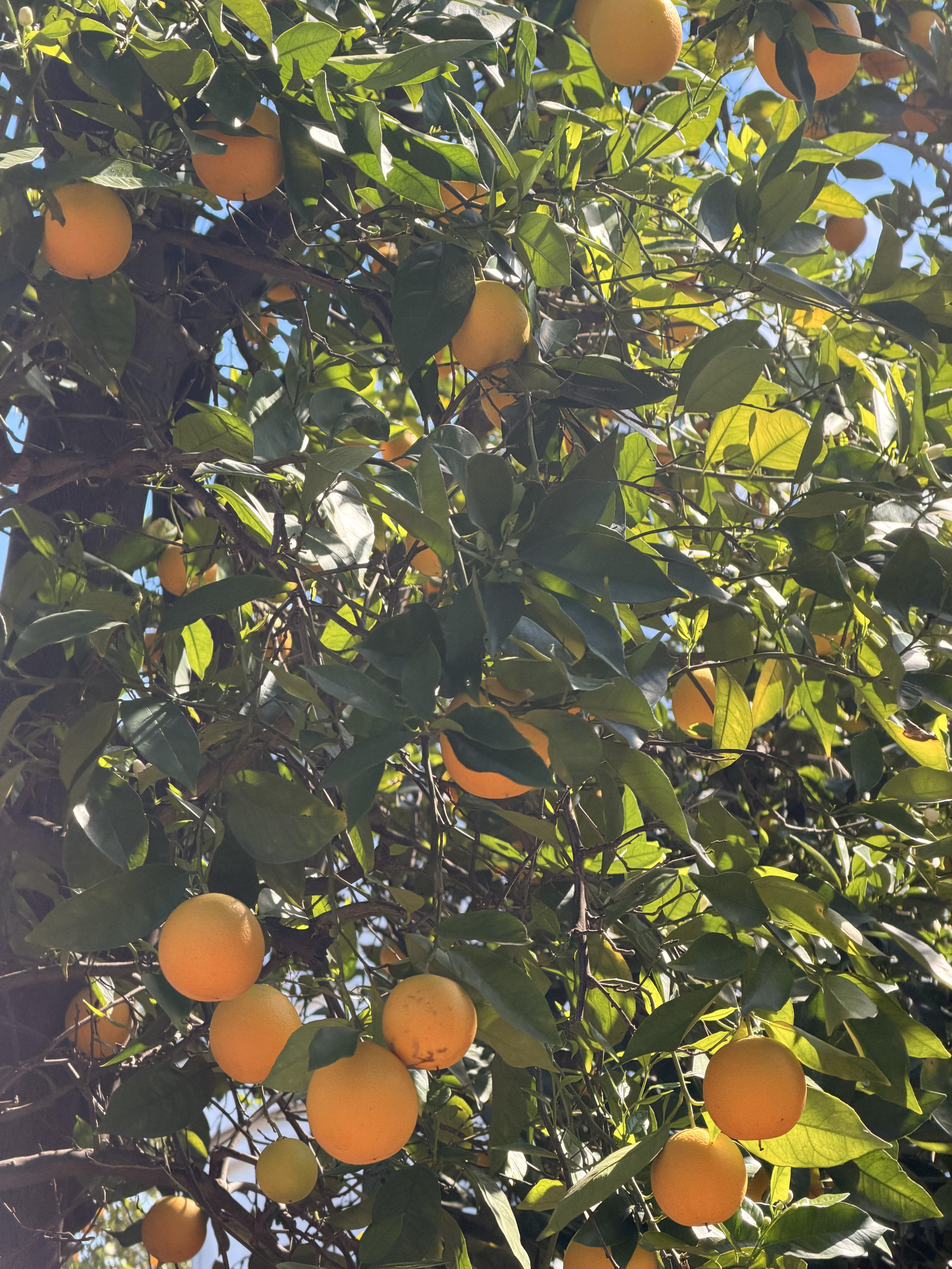orange: (439, 676, 555, 797), (307, 1042, 418, 1164), (158, 893, 264, 1002), (752, 0, 862, 101), (703, 1037, 806, 1141), (651, 1127, 747, 1226), (209, 984, 302, 1084), (382, 974, 477, 1070), (192, 103, 284, 202), (42, 182, 131, 279), (449, 279, 529, 379), (590, 0, 682, 86), (66, 986, 136, 1058), (141, 1196, 206, 1263), (256, 1136, 318, 1204), (562, 1226, 657, 1269), (156, 539, 217, 600), (673, 668, 716, 740), (861, 33, 911, 79), (643, 312, 698, 352), (481, 377, 518, 430), (902, 90, 943, 134), (442, 181, 489, 218), (825, 215, 867, 254), (910, 10, 947, 54), (405, 532, 441, 575), (380, 432, 419, 470), (573, 0, 600, 43), (369, 1110, 370, 1110), (169, 1232, 170, 1232), (658, 39, 659, 39)
